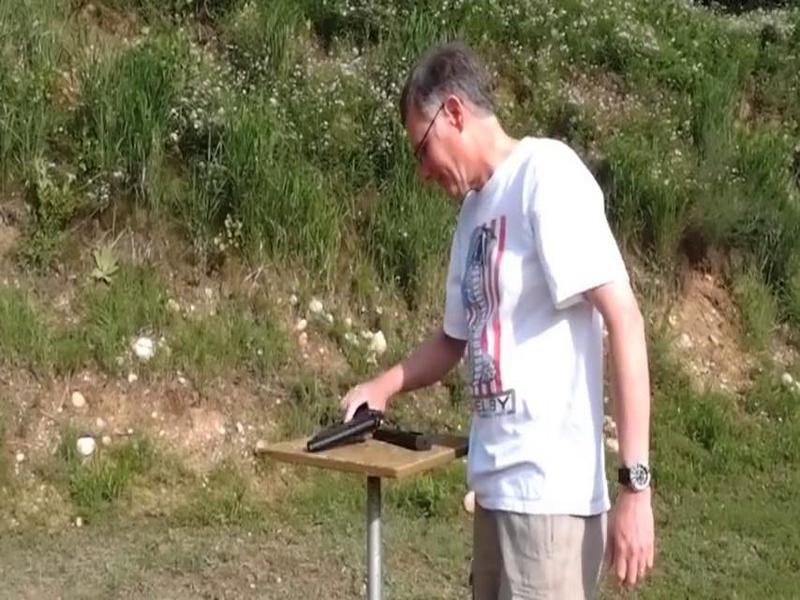Pistola: (274, 383, 379, 468)
